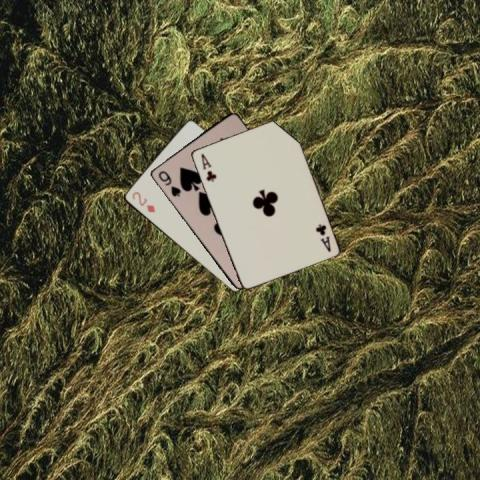2d: (129, 189, 156, 214)
9s: (155, 167, 182, 198)
Ac: (198, 151, 217, 183), (313, 221, 332, 253)
